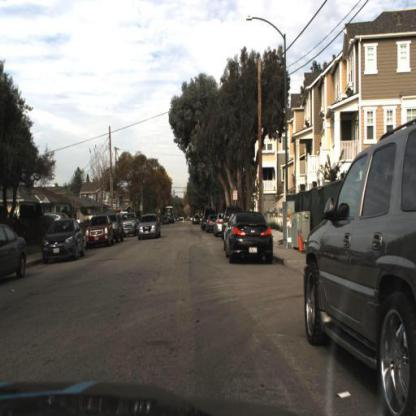car: (303, 120, 416, 416), (225, 209, 277, 269), (40, 212, 87, 267), (1, 223, 30, 286), (85, 216, 118, 248), (115, 210, 136, 239), (138, 214, 161, 240), (108, 210, 123, 244), (213, 211, 229, 240), (110, 215, 125, 245), (51, 211, 73, 227)
truck: (165, 204, 174, 222)
